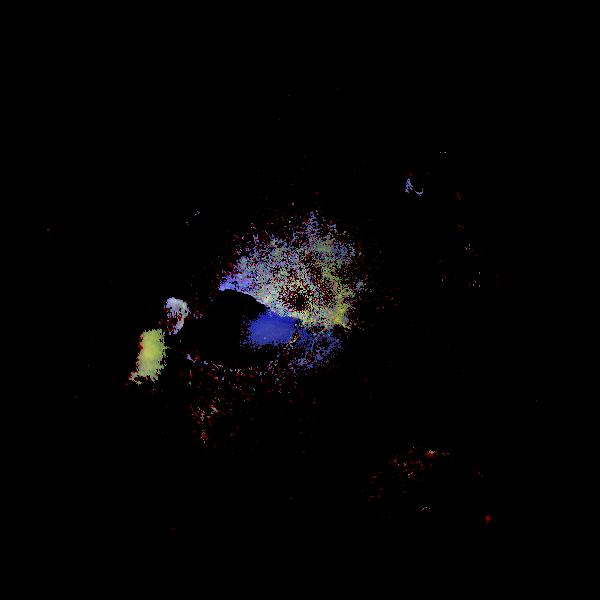roost: (13, 274, 196, 457)
